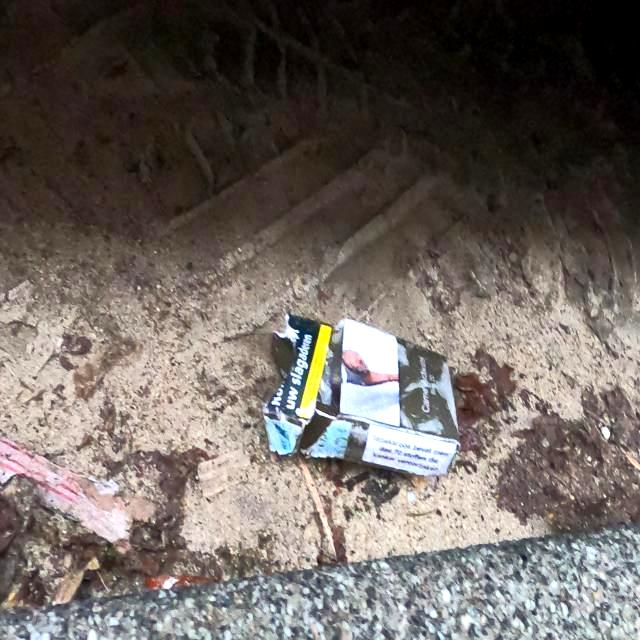Paper: (260, 309, 462, 481)
Plastic: (0, 431, 136, 554)
